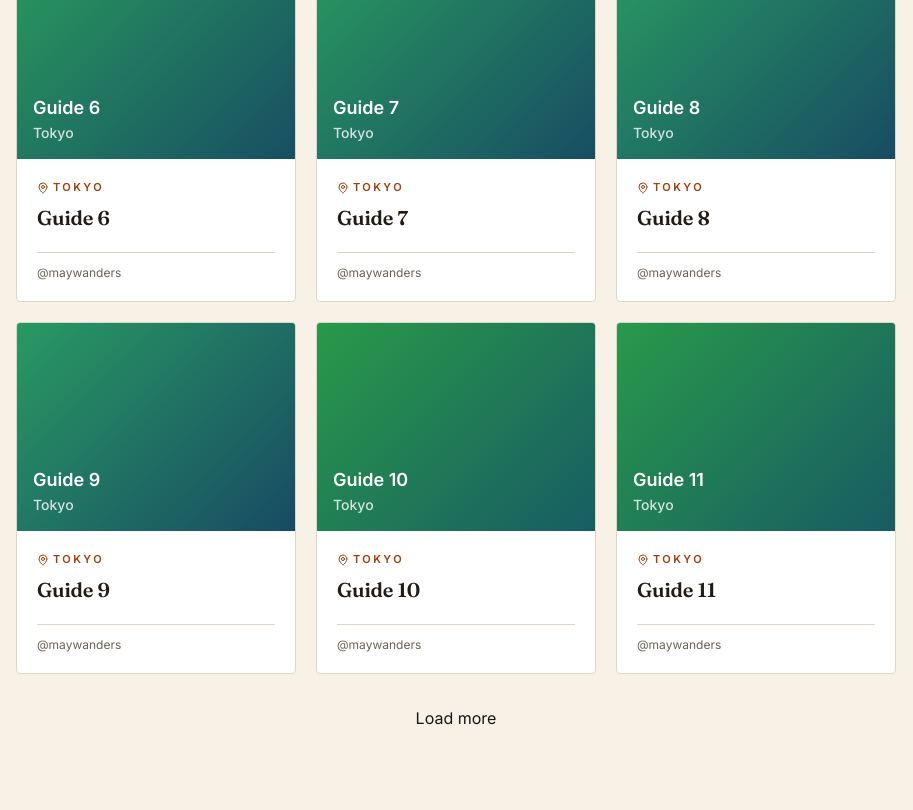
Test case: ExploreView › reveals twelve cards, loads the thirteenth, and persists page=2
(page scrolled)
Click the button "Load more". click: click(456, 718)
box: [416,706,496,730]
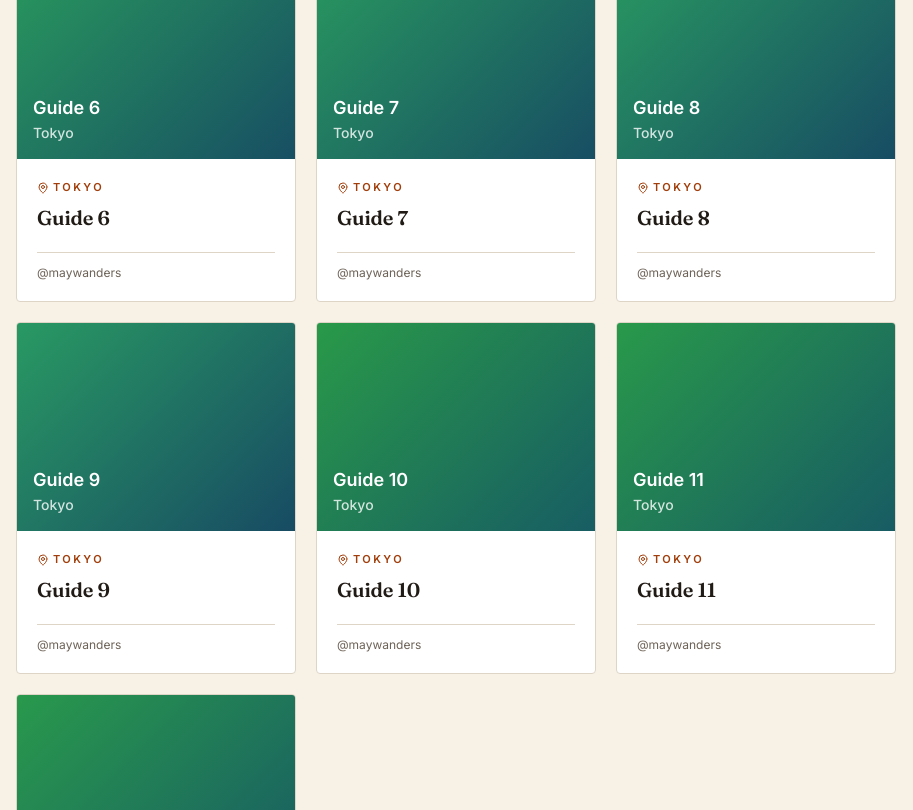
Result: the button "Load more" is gone
